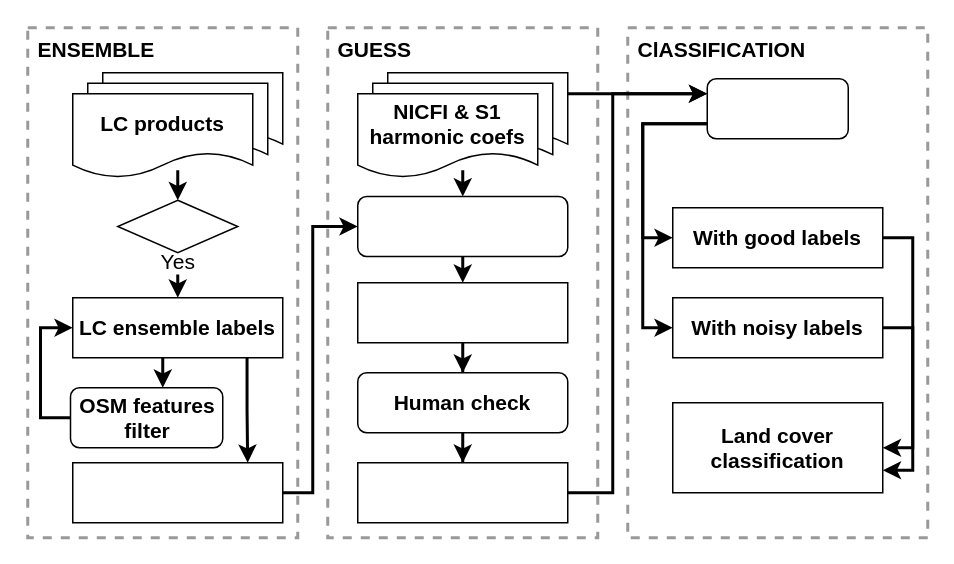
This 954x564 diagram has some shape labels left out. The centre of each missing label's shape, as x and y in pixels:
"Agree?" goes at [177,226].
"Guessed LC labels" goes at [462,312].
"RF guess model" goes at [462,225].
"Samples" goes at [177,492].
"Scored LC labels" goes at [462,492].
"U-Net" goes at [777,108].
